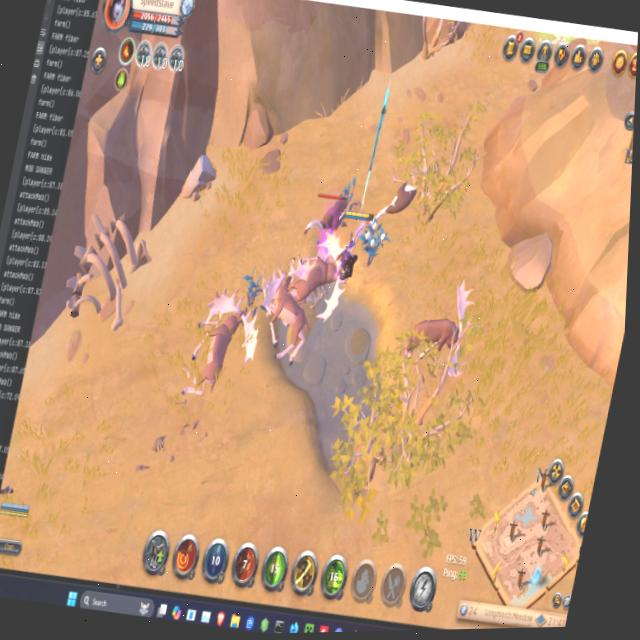hide: (354, 211, 391, 268)
mob: (174, 270, 271, 414), (252, 264, 322, 371), (280, 225, 354, 326), (366, 170, 423, 234)
ore: (396, 269, 486, 397), (296, 176, 356, 266)
red: (329, 207, 371, 288), (0, 494, 36, 527)
